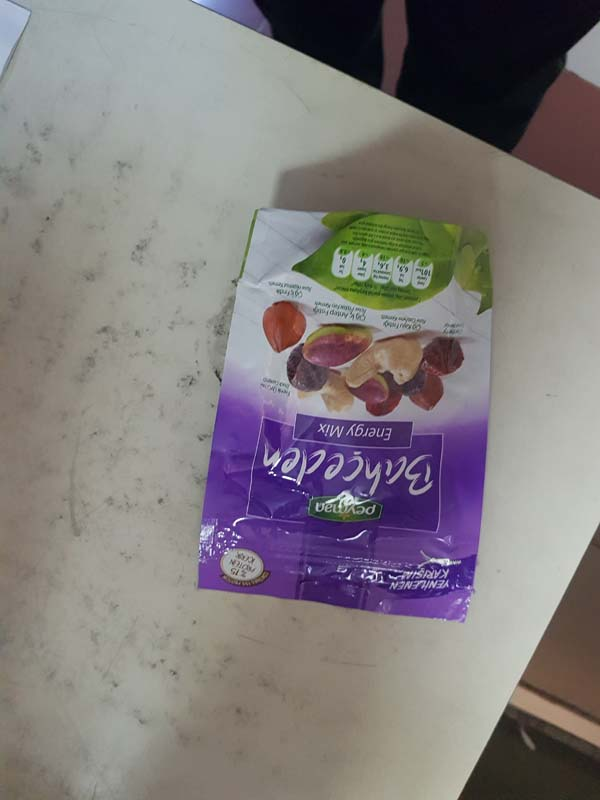bahcedenenergymix: (188, 191, 482, 631)
